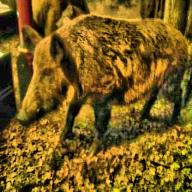boar: (10, 0, 192, 129)
